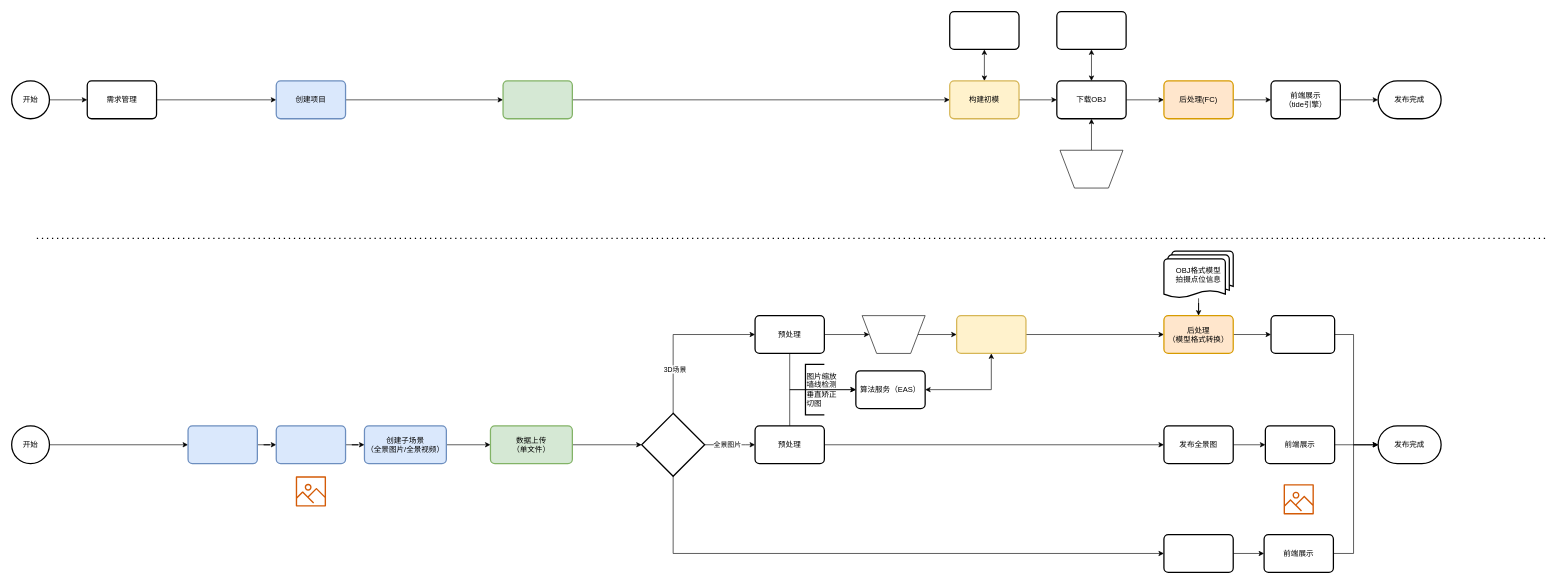
Some shapes in this 1561 by 583 pixel diagram are drawn without their labels. The centre of each missing label's shape, as x and y in pixels:
主场景类型: the point at 673,444
创建主场景 （例：一套房屋）: the point at 310,444
创建项目 （文件夹）: the point at 222,444
前端展示 （淘系引擎）: the point at 1302,334
发布全景视频: the point at 1198,553
数据上传 （打包）: the point at 537,99
构建模型: the point at 991,334
用户标注: the point at 893,334
算法处理 修复后高模(BC): the point at 1091,30
算法服务（BC）: the point at 984,30
高模修复: the point at 1091,169
